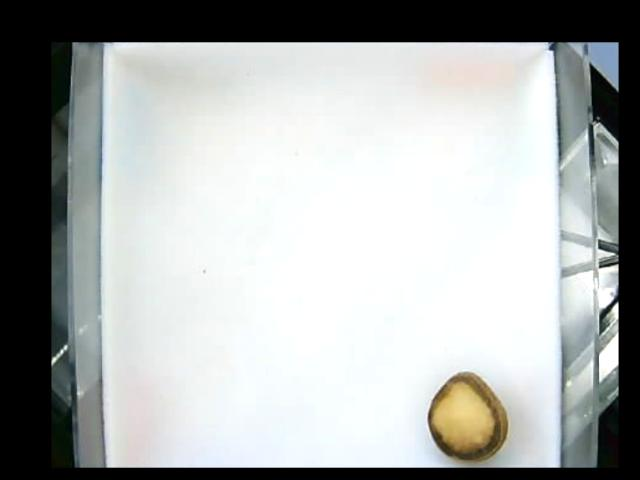Potato: (426, 370, 507, 461)
